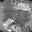people: (2, 18, 14, 30)
